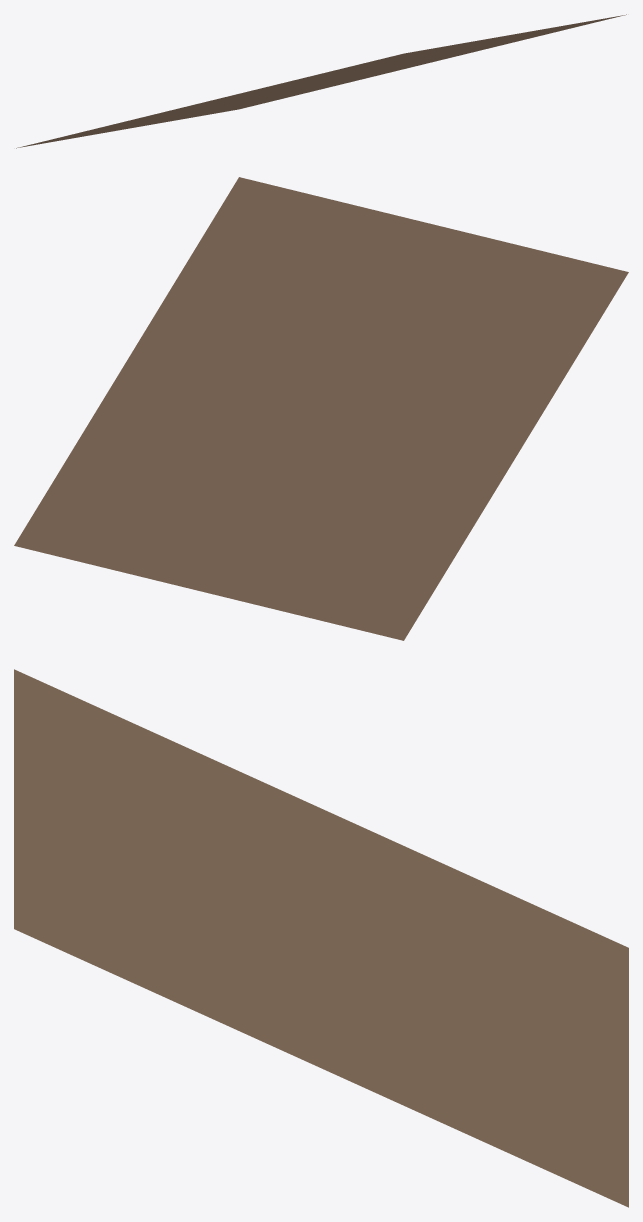
File: ceiling_stairs_flat.fbx
3 views of the same model, one above another, from view 1: azimuth 30°, elevation 25°; view 2: azimuth 150°, elevation 25°; view 3: azimuth 270°, elevation 25° (orthographic). The views are drawn at different scales.
Parts seen in each view (by area): view 1: seiling_stairs_flat; view 2: seiling_stairs_flat; view 3: seiling_stairs_flat.
Part boxes in pixels (bbox=[...]): seiling_stairs_flat: bbox=[16, 14, 626, 148]; seiling_stairs_flat: bbox=[14, 177, 628, 640]; seiling_stairs_flat: bbox=[14, 669, 628, 1207].
Bounding box in the file's own units: 200 × 100 × 200.
